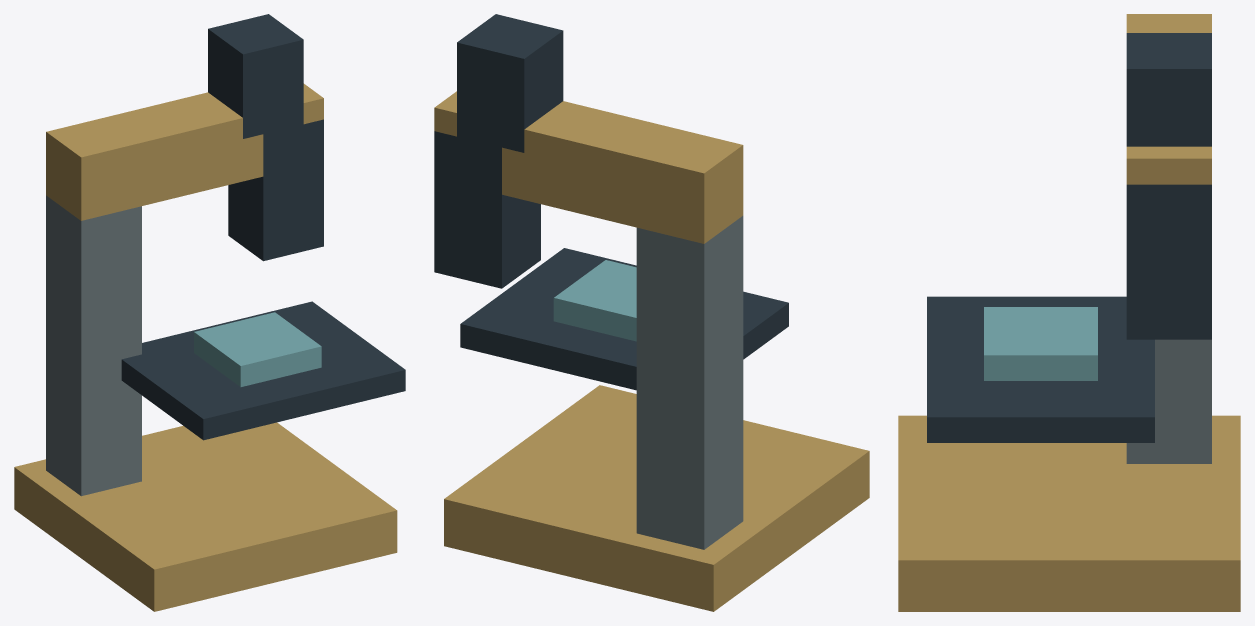
File: education-12.glb
3 views of the same model, side by side, from view 1: azimuth 30°, elevation 25°; view 2: azimuth 150°, elevation 25°; view 3: azimuth 270°, elevation 25° (orthographic). The views are drawn at different scales.
Visible parts, largest first — view 1: Classroom microscope; view 2: Classroom microscope; view 3: Classroom microscope.
Part boxes in pixels (x1,y1,x2,y2): Classroom microscope: (14,14,405,611); Classroom microscope: (434,14,869,611); Classroom microscope: (898,14,1240,611).
Bounding box in the file's own units: 1.04 × 1.68 × 0.96.
